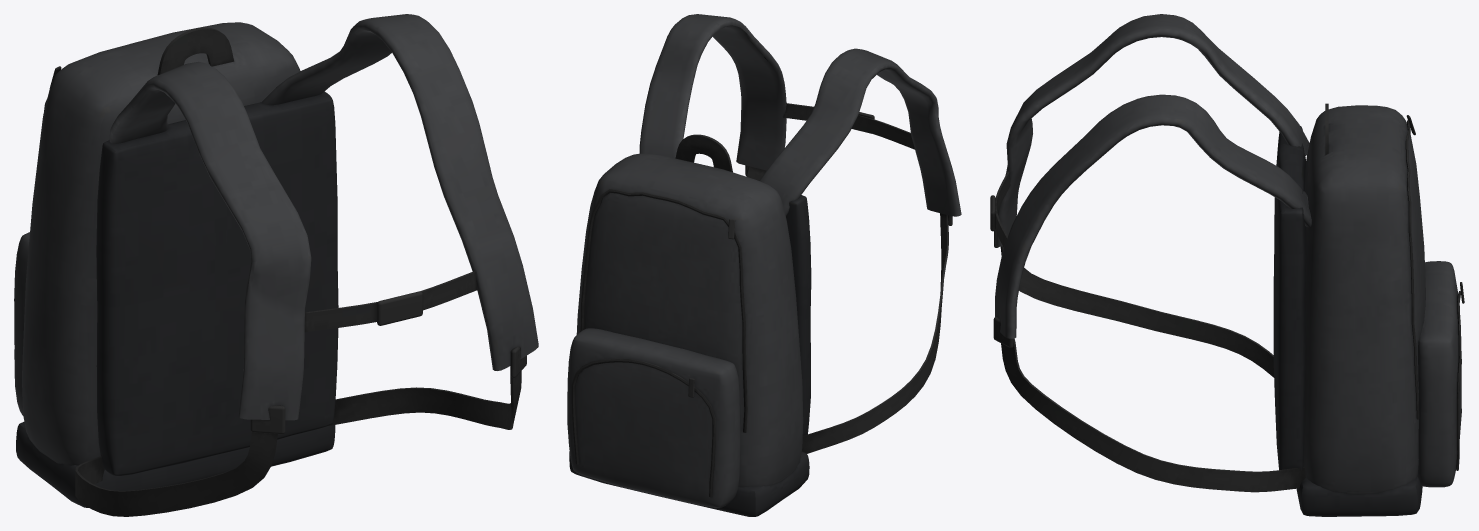
The model's file is backpack_1.glb.
3 renders of one model, left to right at view 1: azimuth 30°, elevation 25°; view 2: azimuth 150°, elevation 25°; view 3: azimuth 270°, elevation 25°, orthographic. The views are drawn at different scales.
Visible parts, largest first — view 1: body; view 2: body; view 3: body.
Boxes of the visible parts, x1,y1,x2,y2 form: body: [14, 14, 538, 516]; body: [567, 14, 961, 516]; body: [990, 14, 1464, 516].
Bounding box in the file's own units: 0.4182 × 0.5342 × 0.5589.
Materials: 1 (1 with a texture image).
